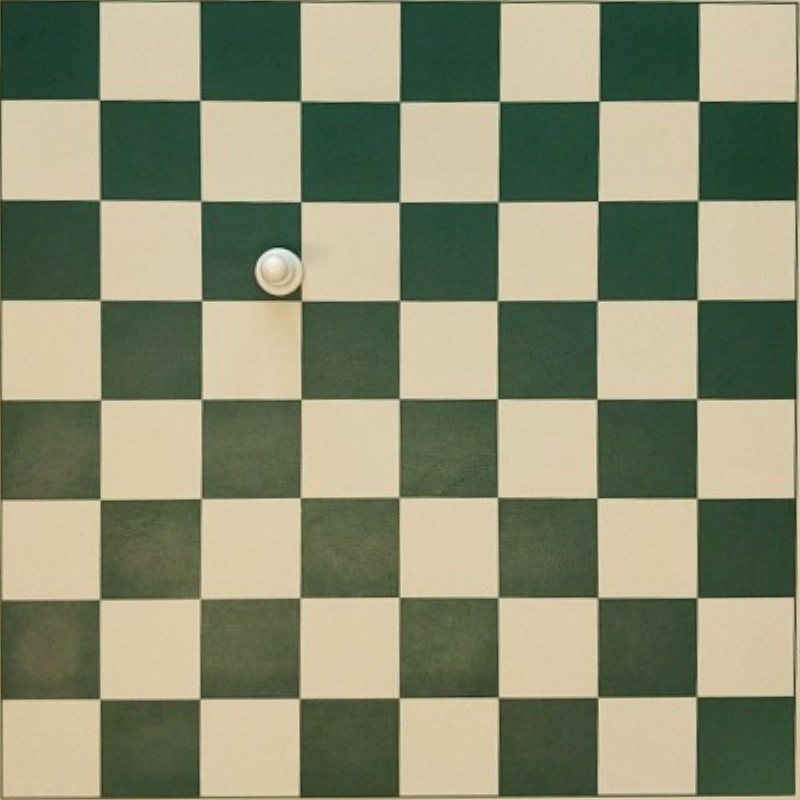white-pawn: (254, 247, 303, 297)
